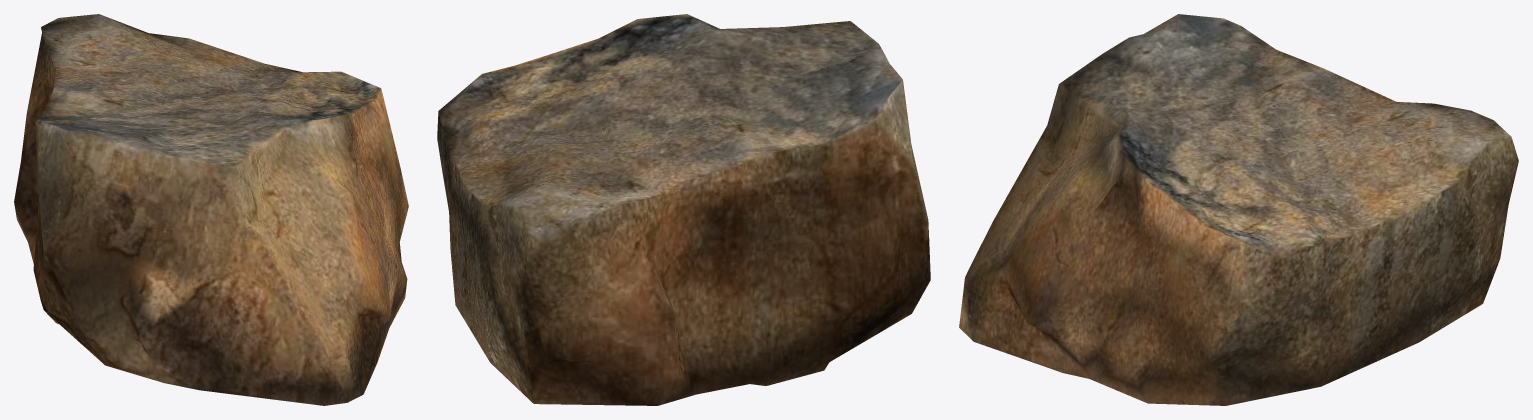
File: boulder.glb
3 views of the same model, side by side, from view 1: azimuth 30°, elevation 25°; view 2: azimuth 150°, elevation 25°; view 3: azimuth 270°, elevation 25° (orthographic). The views are drawn at different scales.
Visible parts, largest first — view 1: boulder_03_LOD0; view 2: boulder_03_LOD0; view 3: boulder_03_LOD0.
Part boxes in pixels (x1,y1,x2,y2): boulder_03_LOD0: [14, 14, 408, 405]; boulder_03_LOD0: [437, 14, 930, 405]; boulder_03_LOD0: [959, 14, 1518, 405].
Bounding box in the file's own units: 2.39 × 1.45 × 3.04.
1 material, 1 textured.
